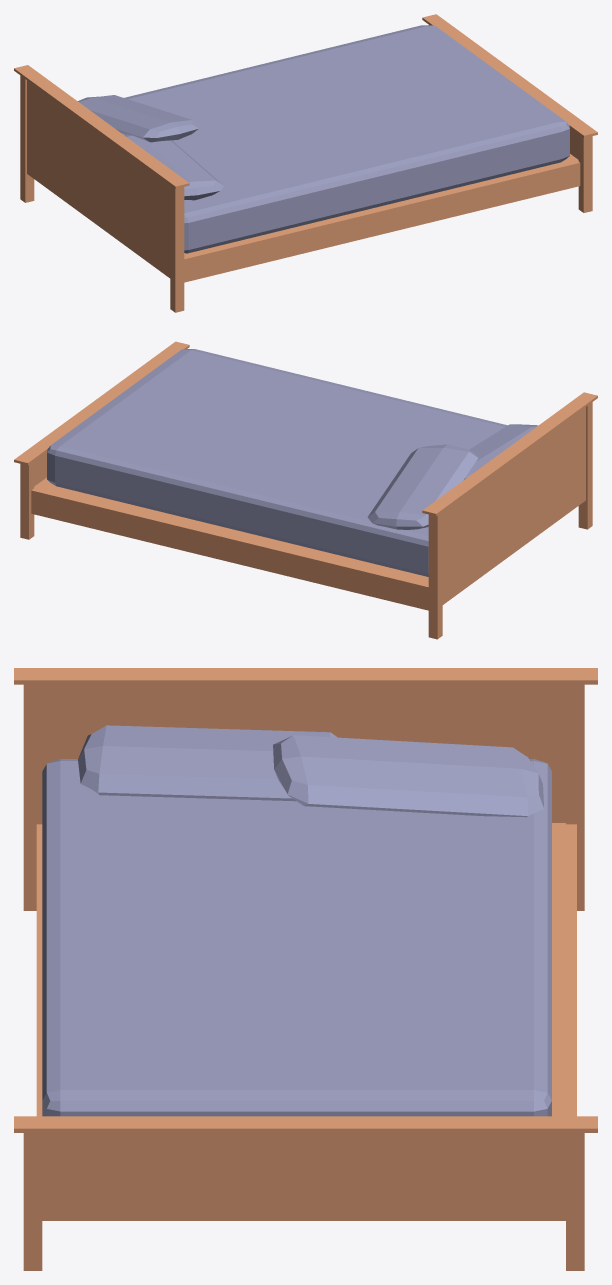
The model's file is Simple Queenbed.fbx.
3 renders of one model, top to bottom at view 1: azimuth 30°, elevation 25°; view 2: azimuth 150°, elevation 25°; view 3: azimuth 270°, elevation 25°, orthographic. The views are drawn at different scales.
Parts seen in each view (by area): view 1: Cube.001, Cube, Simple Queensize Bed; view 2: Cube.001, Cube, Simple Queensize Bed; view 3: Cube.001, Cube, Simple Queensize Bed.
Boxes of the visible parts, x1,y1,x2,y2 form: Cube.001: (122, 25, 569, 253); Cube: (14, 14, 597, 312); Simple Queensize Bed: (78, 95, 223, 200); Cube.001: (47, 349, 507, 576); Cube: (14, 341, 597, 639); Simple Queensize Bed: (367, 424, 538, 529); Cube.001: (42, 759, 551, 1116); Cube: (14, 668, 597, 1270); Simple Queensize Bed: (78, 725, 543, 817).
Bounding box in the file's own units: 966 × 281 × 640.
